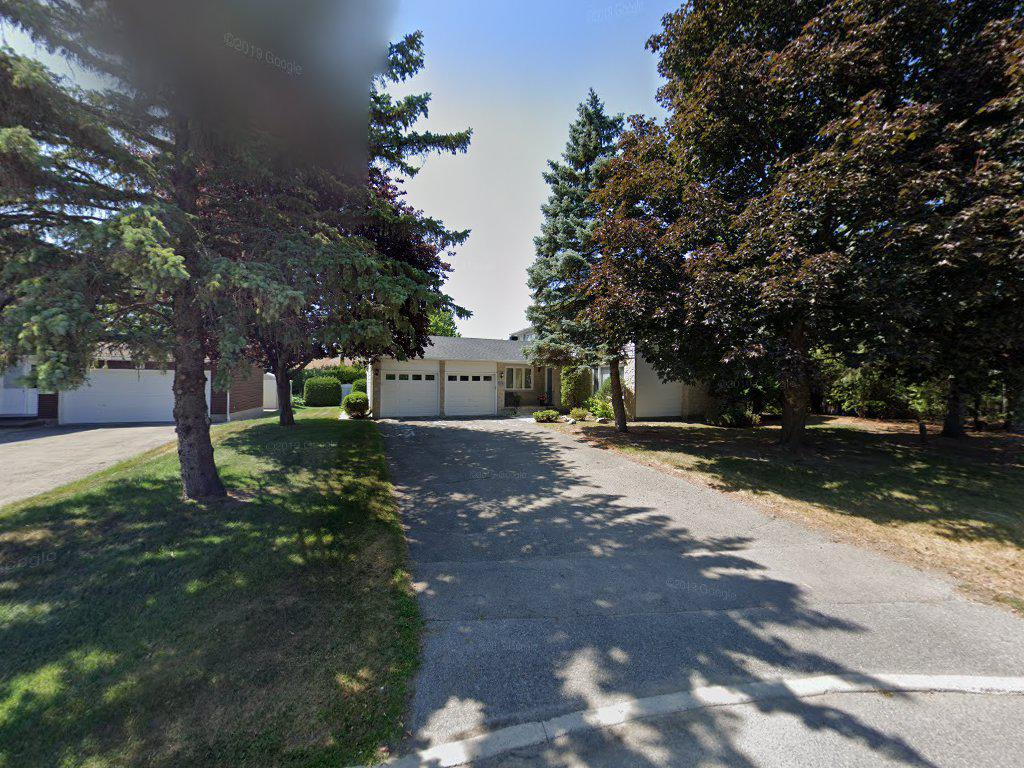trunk: (163, 312, 225, 532)
